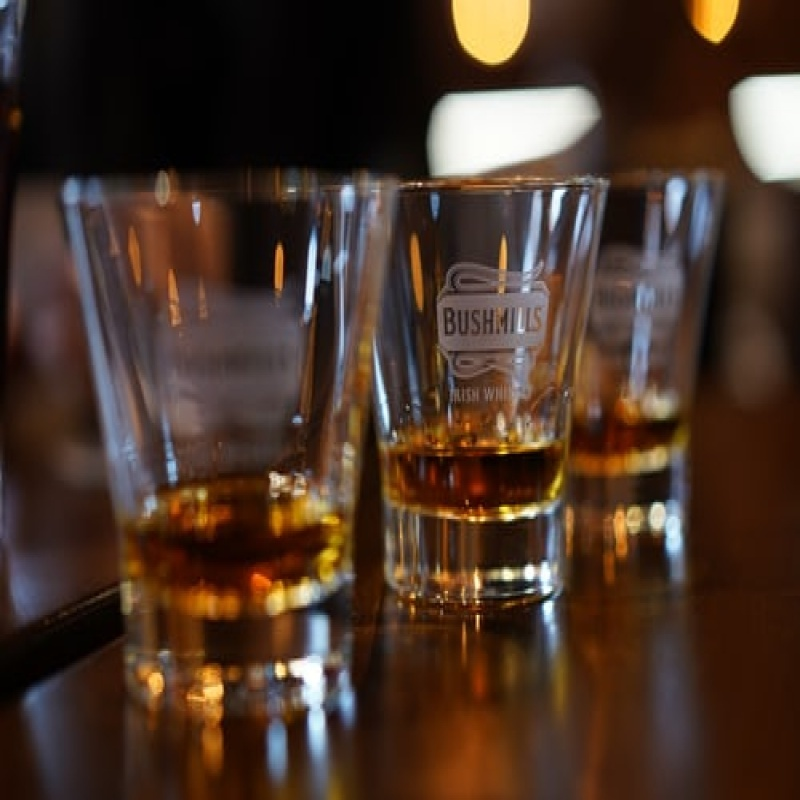whiskey: (59, 164, 370, 627), (380, 181, 578, 576)
